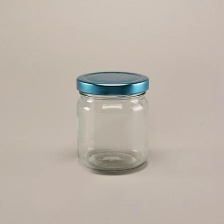bottle: (68, 67, 168, 177)
